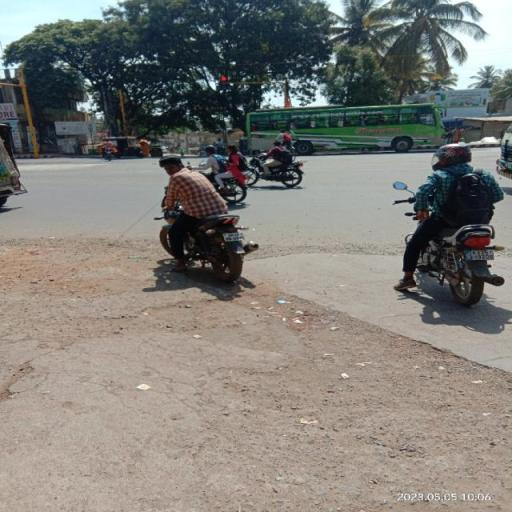bike: (140, 153, 266, 282)
withouthelmet: (160, 156, 181, 172)
